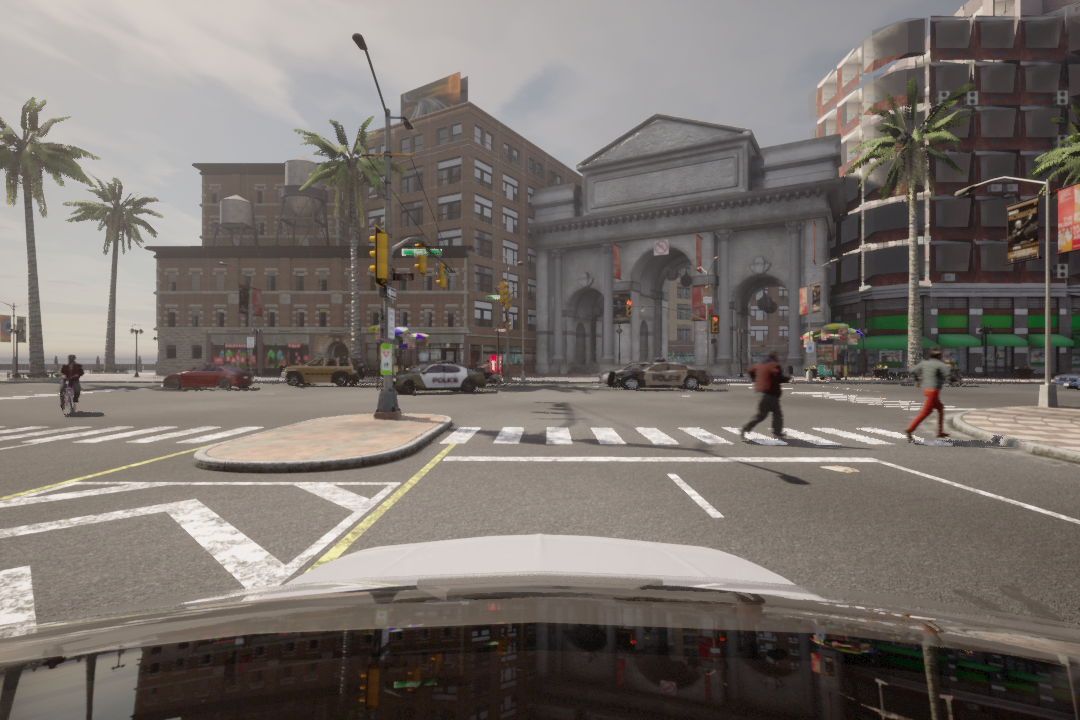TrafficLight: (711, 314, 720, 336), (625, 296, 633, 317)
TrafficSign: (656, 241, 671, 257)
walkside: (450, 424, 941, 451), (1, 422, 258, 449)
